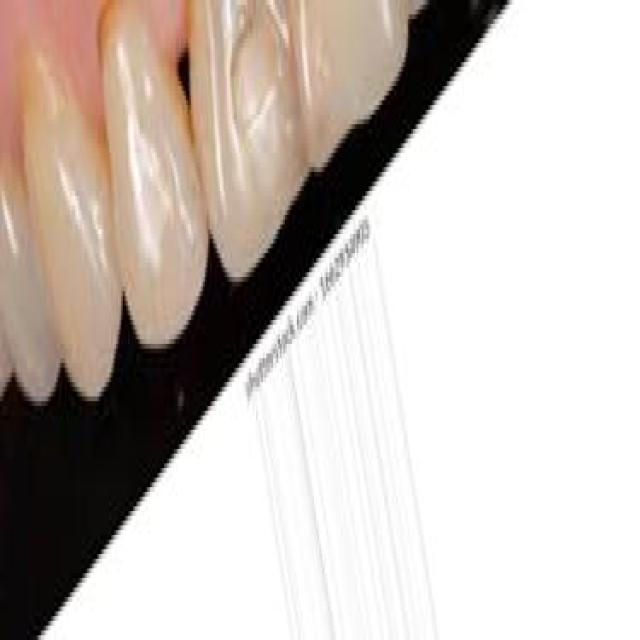caries: (222, 0, 289, 156)
